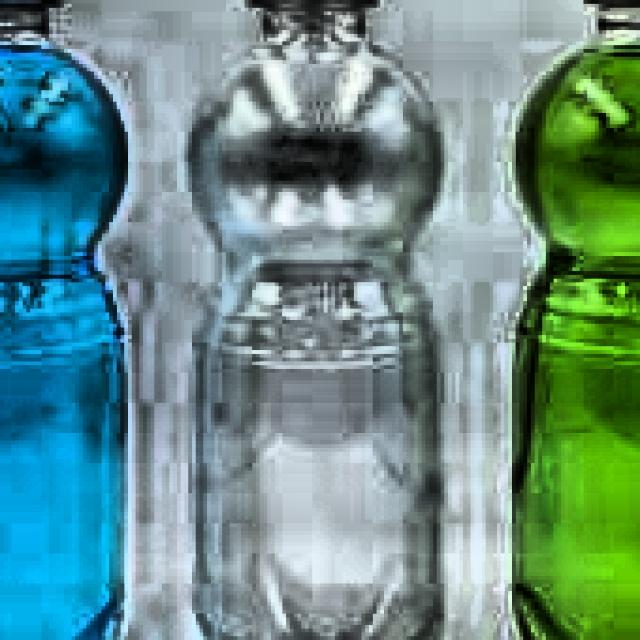plastic: (151, 0, 478, 640), (0, 0, 151, 640), (489, 0, 640, 640)
